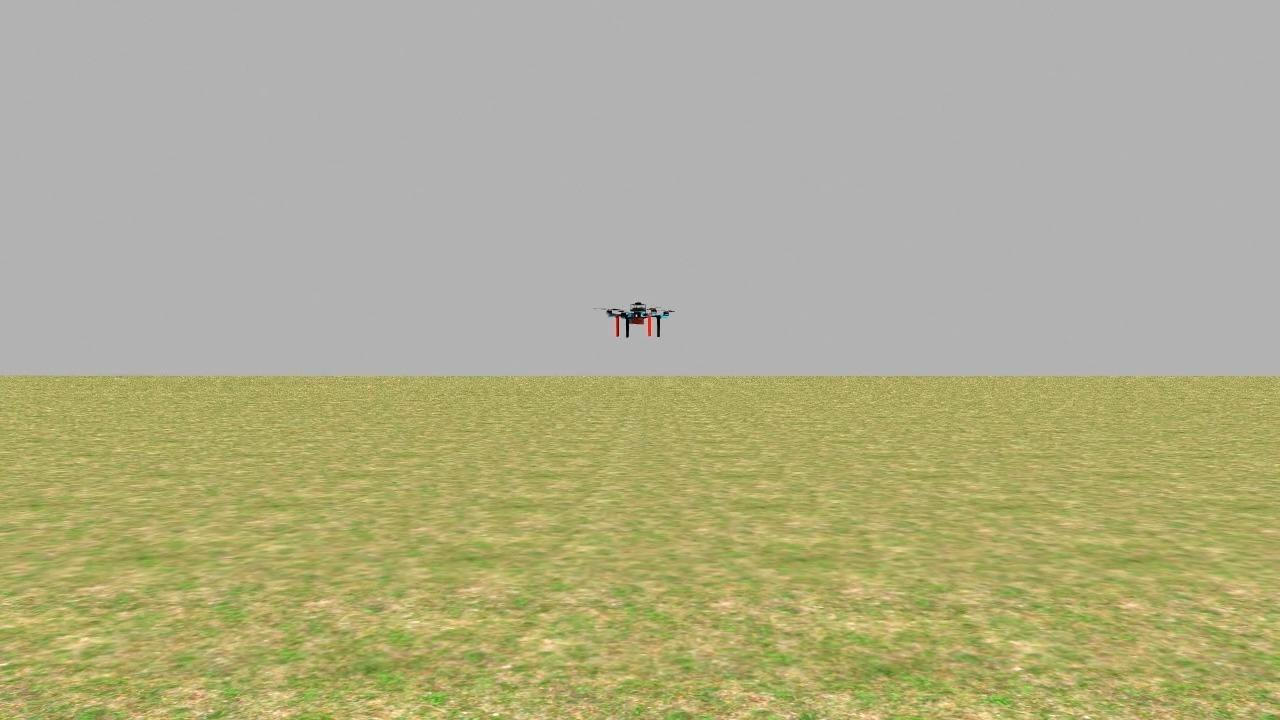UAV: (595, 294, 679, 346)
